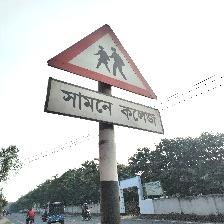College-in-front: (30, 17, 201, 158)
